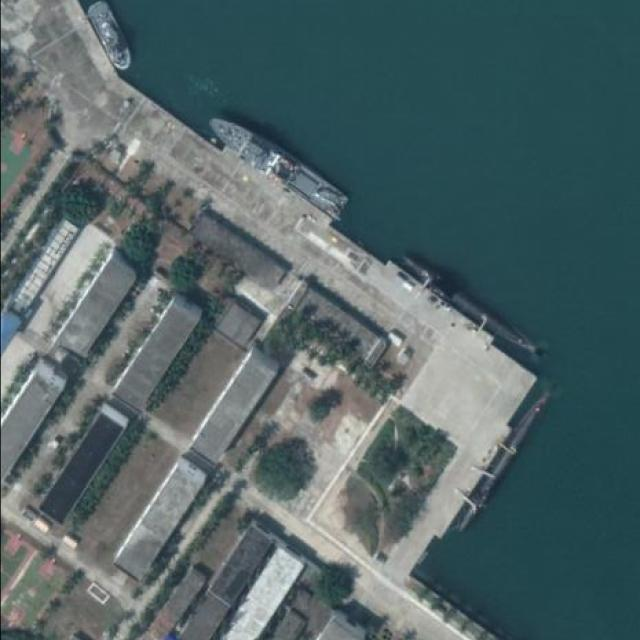Frigate: (201, 105, 352, 220)
Other Warship: (89, 4, 140, 69)
Submarine: (396, 251, 548, 363), (452, 387, 558, 538)
